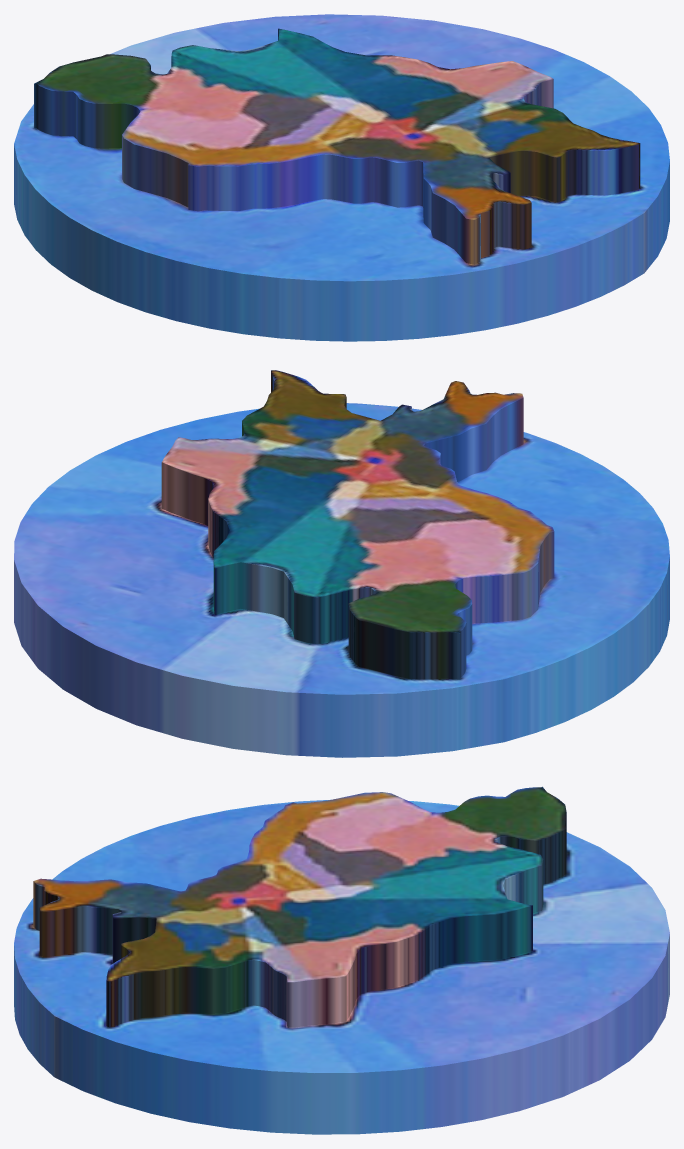
Rendered from el hombre y la ciencia 5.dae.
The picture shows the model from 3 angles, top to bottom: view 1: azimuth 30°, elevation 25°; view 2: azimuth 150°, elevation 25°; view 3: azimuth 270°, elevation 25°; orthographic projection. The views are drawn at different scales.
Parts seen in each view (by area): view 1: SketchUp (×3); view 2: SketchUp (×2); view 3: SketchUp (×3).
Part boxes in pixels (<box>): SketchUp (×3): <box>14,14,669,341</box>; SketchUp (×2): <box>14,370,669,757</box>; SketchUp (×3): <box>14,786,669,1134</box>.
Size of the model in its own units: 25.08 by 25.4 by 4.56.
Materials: 1 (1 with a texture image).
